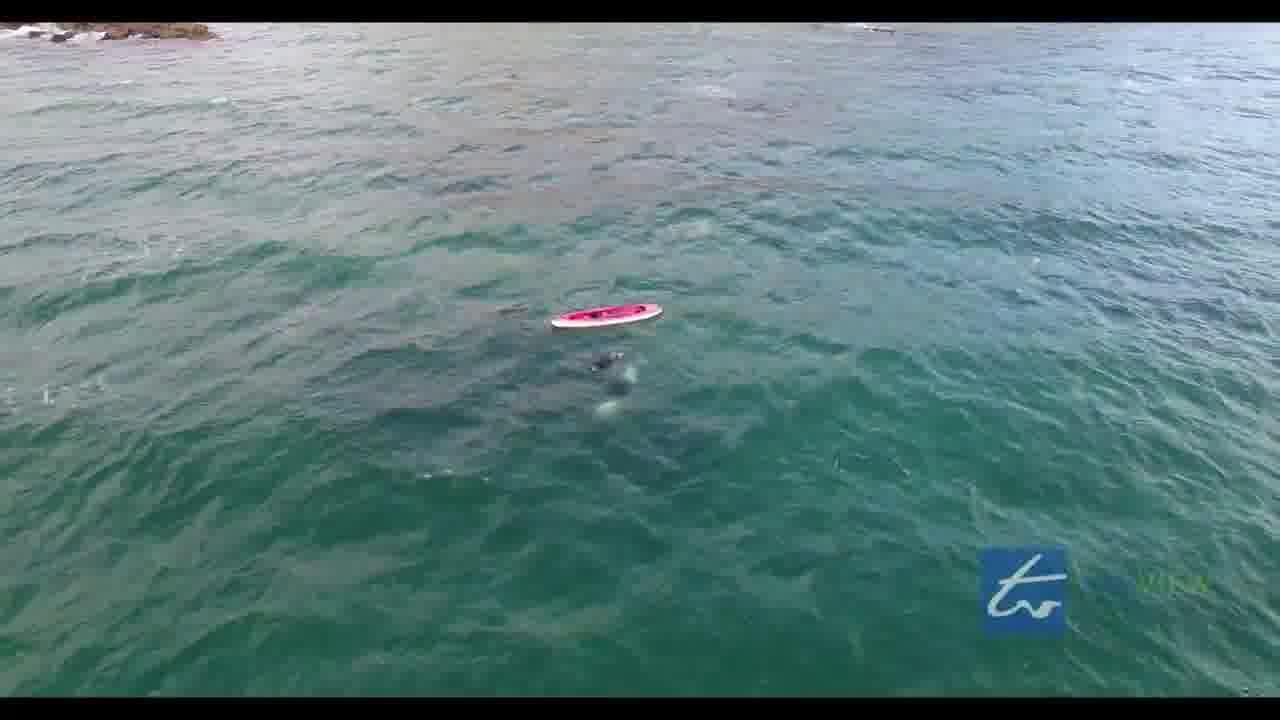human: (584, 342, 630, 384)
